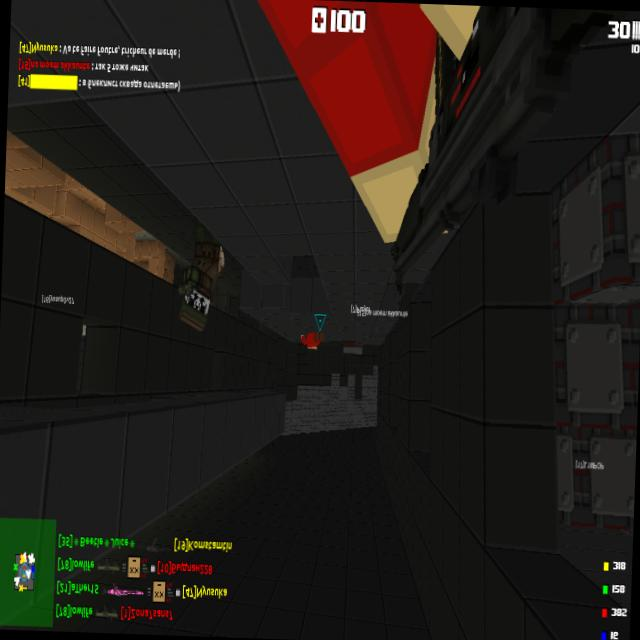enemy: (178, 218, 225, 338)
